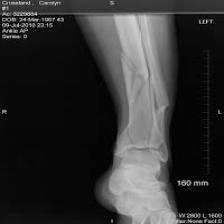spiral-fracture: (69, 15, 184, 224)
